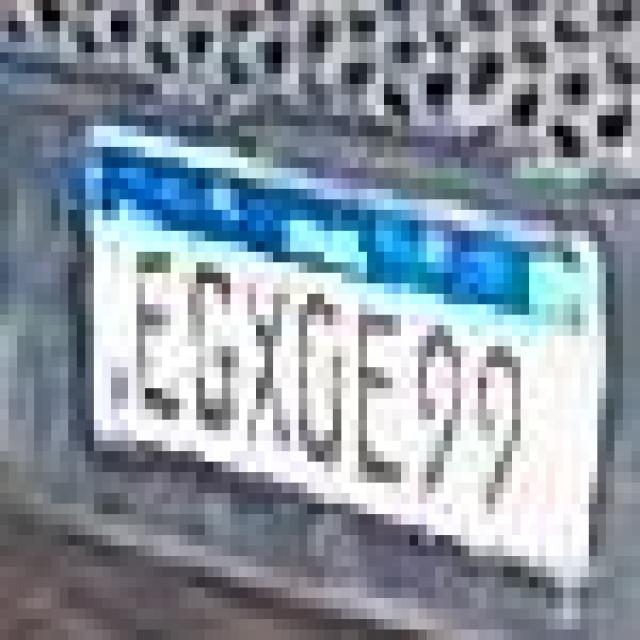0: (287, 274, 347, 490)
9: (401, 308, 468, 499), (476, 326, 539, 526)
E: (352, 290, 412, 502), (121, 235, 188, 423)
G: (175, 243, 247, 431)
X: (235, 267, 292, 461)
